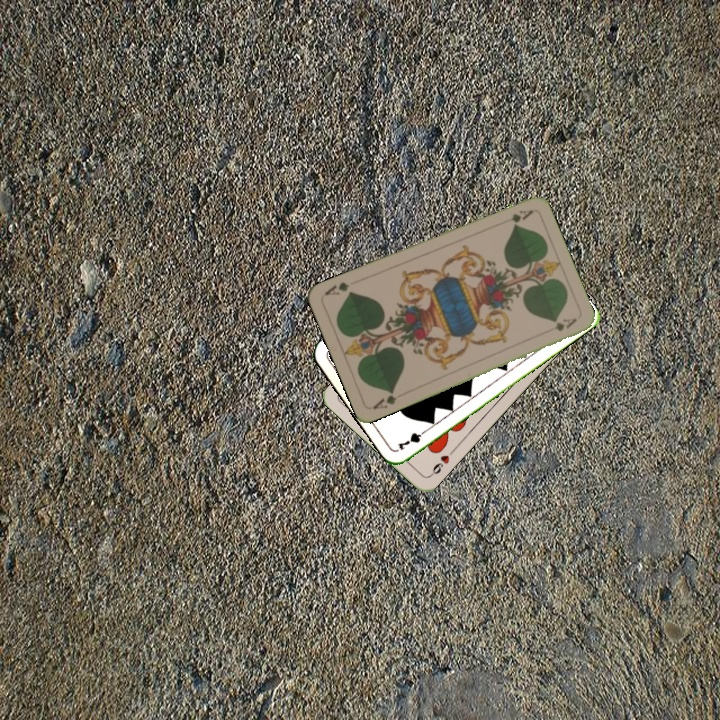G7: (393, 424, 431, 453)
GA: (368, 386, 400, 412), (507, 205, 535, 225)
H9: (426, 446, 457, 479)
